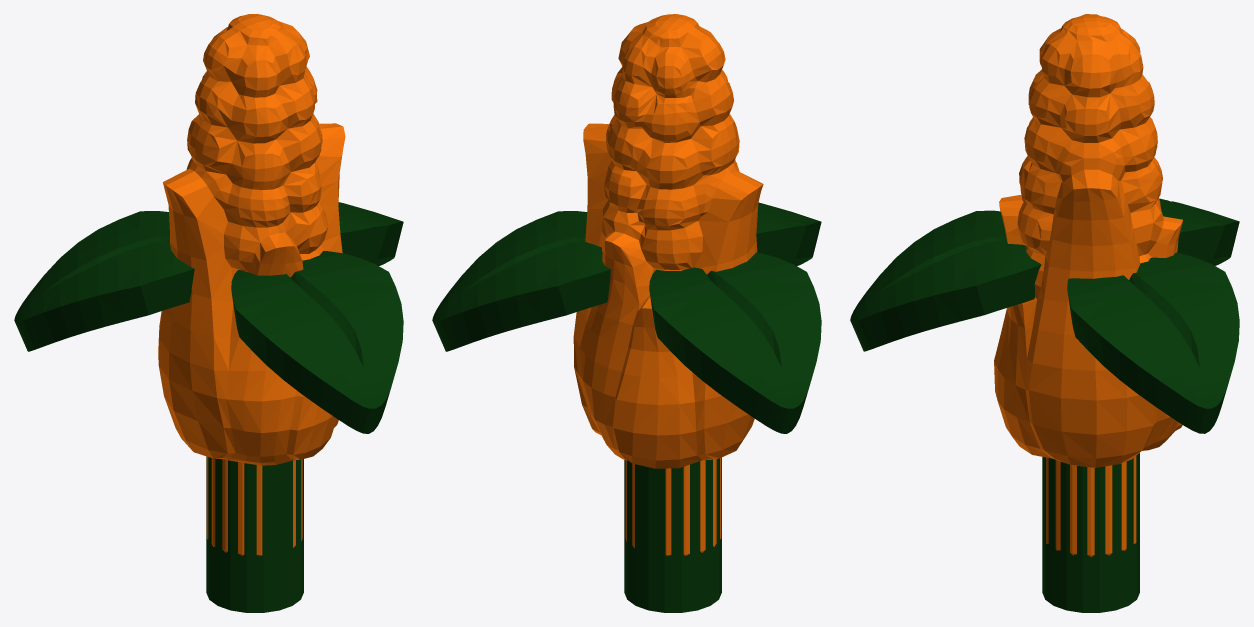
3 views of the same model, side by side, from view 1: azimuth 30°, elevation 25°; view 2: azimuth 150°, elevation 25°; view 3: azimuth 270°, elevation 25° (orthographic).
Parts seen in each view (by area): view 1: Part.1, Part.0; view 2: Part.1, Part.0; view 3: Part.1, Part.0.
Boxes of the visible parts, x1=… form: Part.1: x1=158, y1=14, x2=345, y2=555; Part.0: x1=14, y1=202, x2=403, y2=612; Part.1: x1=573, y1=14, x2=763, y2=555; Part.0: x1=432, y1=202, x2=821, y2=612; Part.1: x1=994, y1=14, x2=1182, y2=556; Part.0: x1=850, y1=198, x2=1239, y2=612.
Size of the model in its own units: 13.92 by 20.74 by 12.77.
